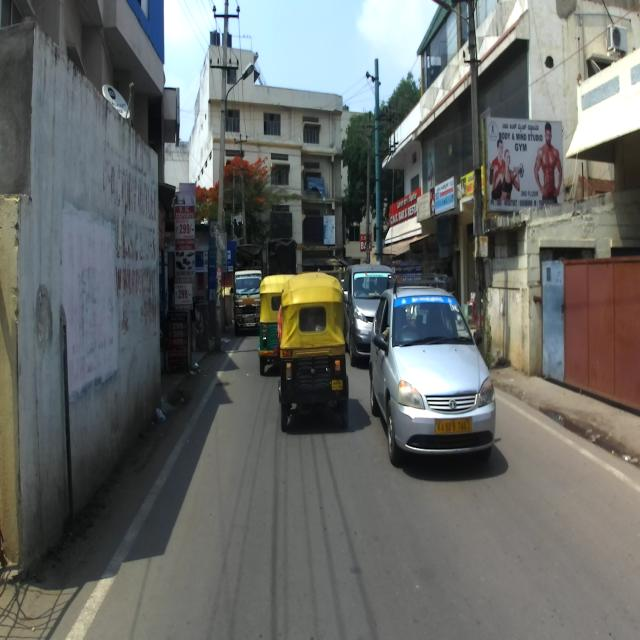auto ahead at: (283, 277, 349, 430)
car ahead at: (378, 262, 499, 462)
electric pole ahead at: (207, 0, 242, 347)
